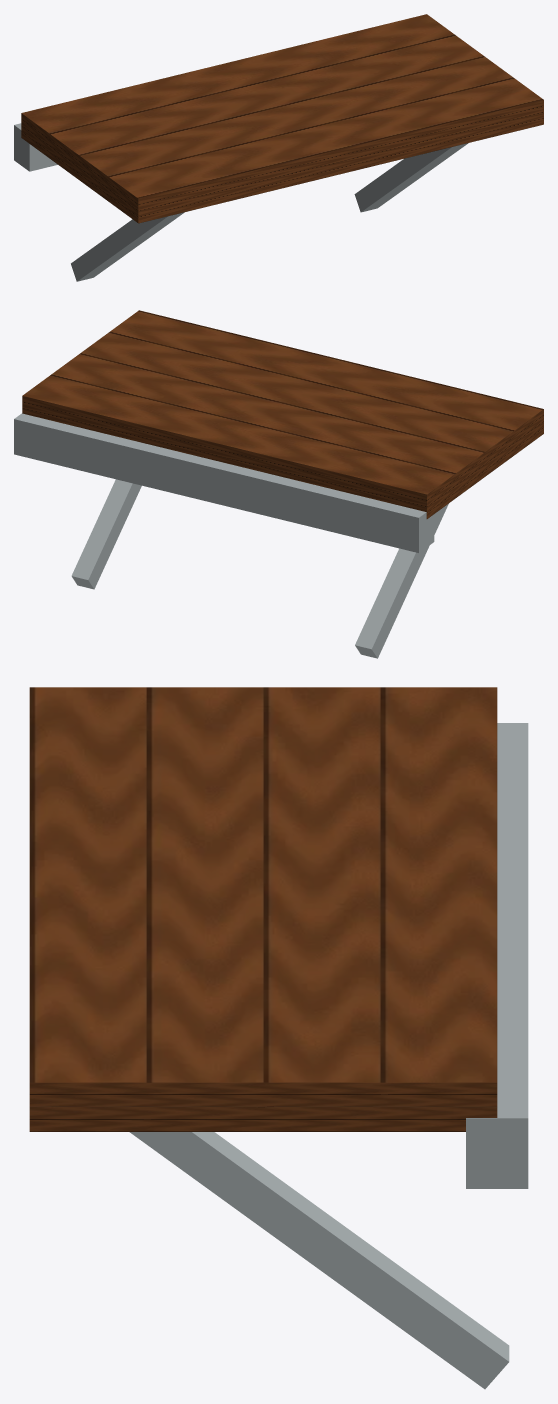
Rendered from bunker-shelter-construction-foldaway-dining-table-22ffb8dd__23342.glb.
3 renders of one model, top to bottom at view 1: azimuth 30°, elevation 25°; view 2: azimuth 150°, elevation 25°; view 3: azimuth 270°, elevation 25°, orthographic. The views are drawn at different scales.
Parts seen in each view (by area): view 1: foldaway-dining-table; view 2: foldaway-dining-table; view 3: foldaway-dining-table.
Part boxes in pixels (x1,y1,x2,y2): foldaway-dining-table: (14,14,543,281); foldaway-dining-table: (14,310,543,658); foldaway-dining-table: (29,687,528,1389).
Size of the model in its own units: 1.2 by 0.5071 by 0.6401.
Materials: 2 (1 with a texture image).
